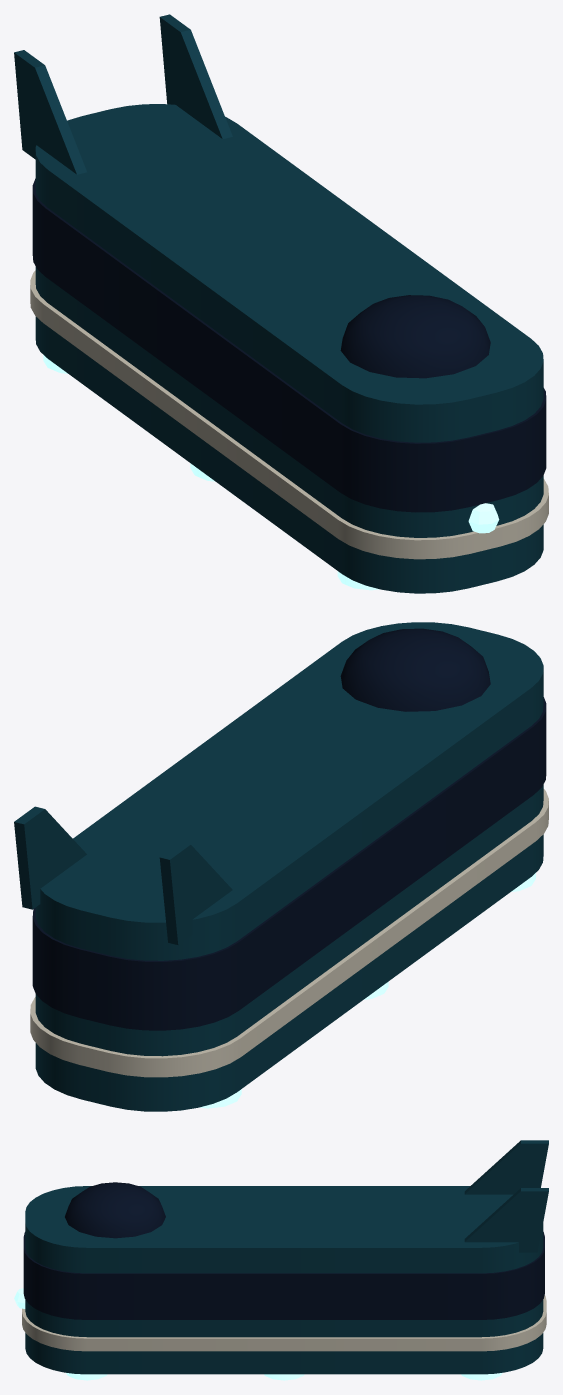
The model's file is hover_bus.glb.
3 renders of one model, top to bottom at view 1: azimuth 30°, elevation 25°; view 2: azimuth 150°, elevation 25°; view 3: azimuth 270°, elevation 25°, orthographic. The views are drawn at different scales.
Visible parts, largest first — view 1: hover_bus; view 2: hover_bus; view 3: hover_bus.
Part boxes in pixels (x1=…): hover_bus: x1=14, y1=14, x2=548, y2=593; hover_bus: x1=14, y1=622, x2=548, y2=1111; hover_bus: x1=14, y1=1140, x2=548, y2=1380.
Bounding box in the file's own units: 2.72 × 3.6 × 9.5.
